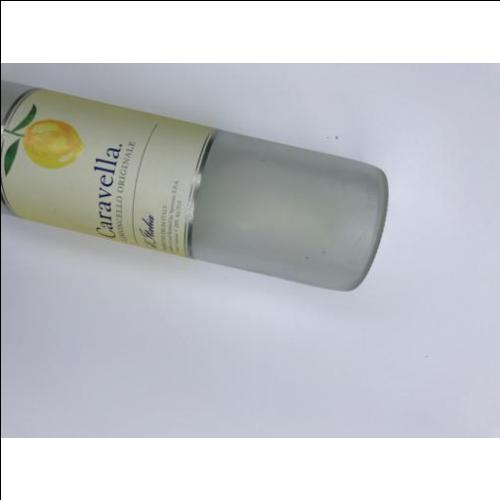glass: (3, 94, 381, 291)
